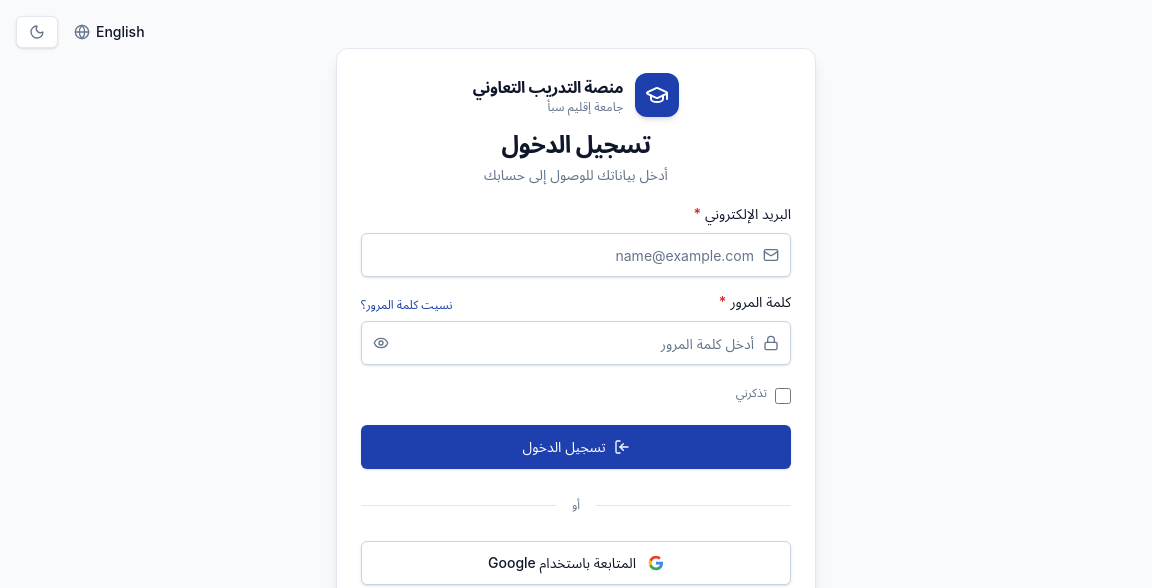
Test case: LoginPage Component (TEP-563 Wired Flow) › displays localized Arabic error when network/connection failure occurs
Type "user@example.com" into the field labelled "البريد الإلكتروني*" at [576, 255], box [361,233,791,277]
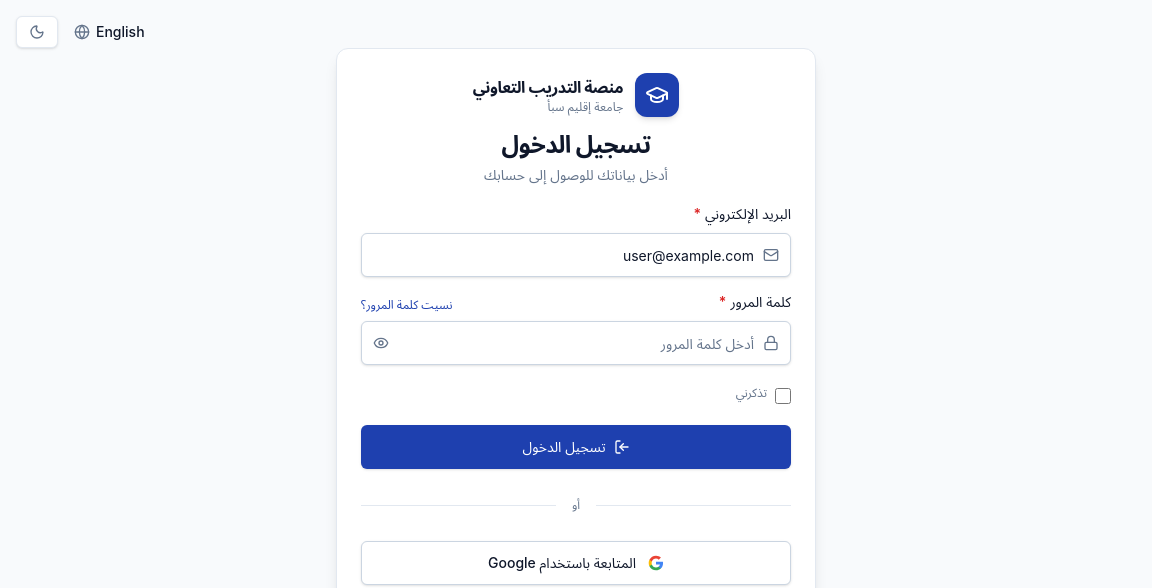
Type "Secret123!" into the password field labelled "كلمة المرور*" at [576, 343], box [361,321,791,365]
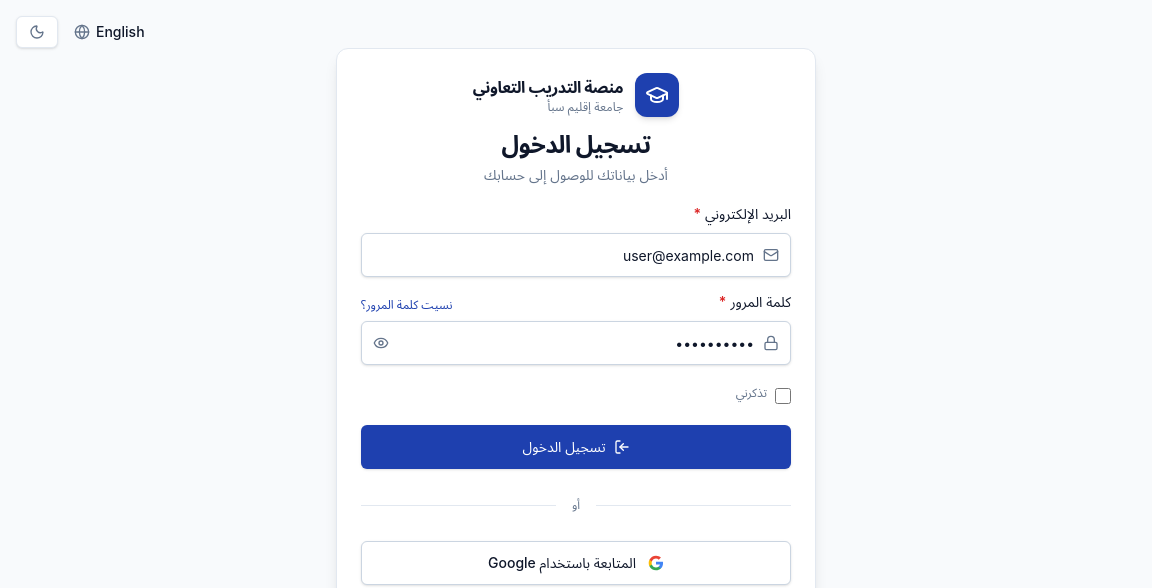
Click the button "تسجيل الدخول" at [576, 447], box [361,425,791,469]
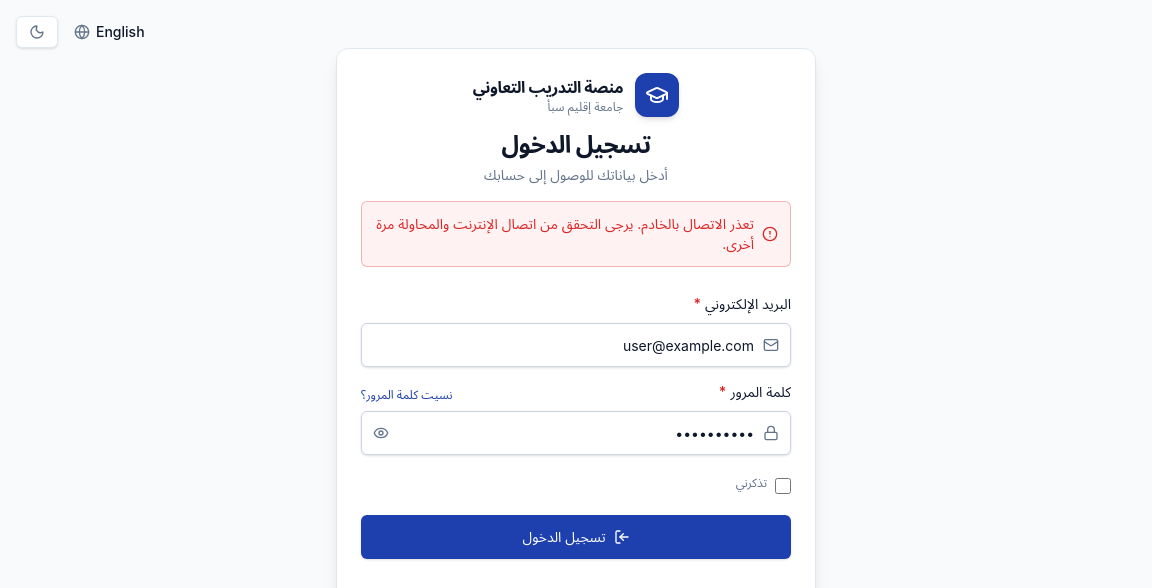
Expected: the text "تعذر الاتصال بالخادم. يرجى التحقق من اتصال الإنترنت والمحاولة مرة أخرى." is shown, [374,214,754,254]
